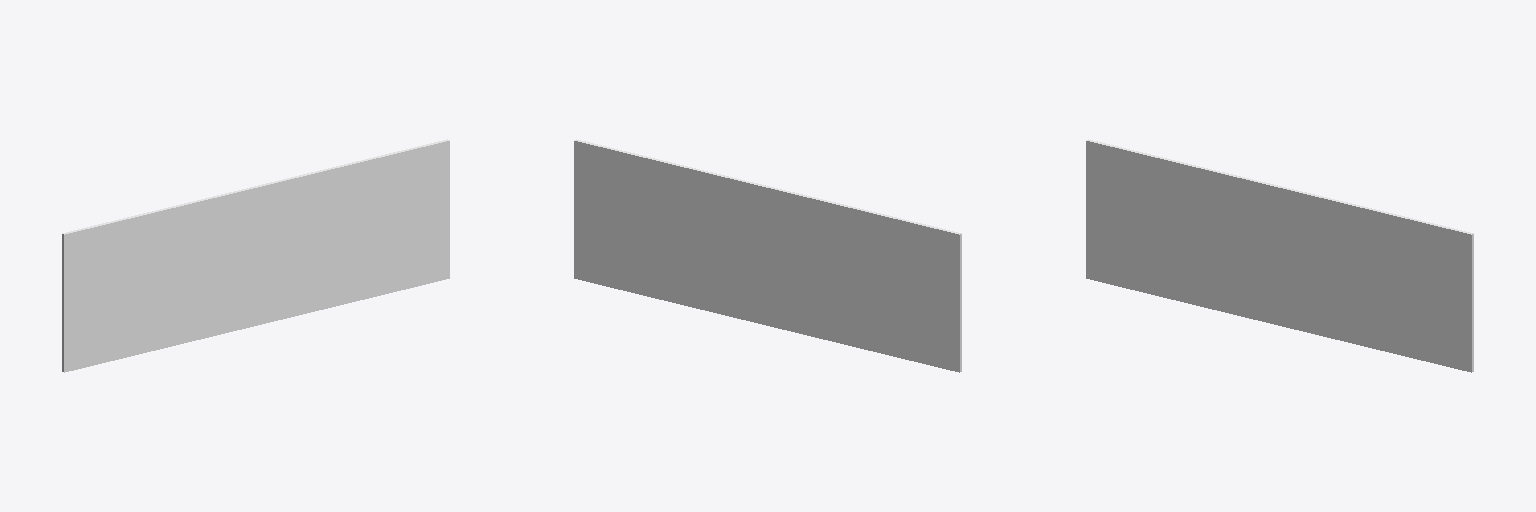
The model's file is fabrica-3.obj.
3 renders of one model, left to right at view 1: azimuth 30°, elevation 25°; view 2: azimuth 150°, elevation 25°; view 3: azimuth 330°, elevation 25°, orthographic.
Parts seen in each view (by area): view 1: object 1; view 2: object 1; view 3: object 1.
Part boxes in pixels (bbox=[...]): object 1: bbox=[62, 139, 449, 372]; object 1: bbox=[574, 139, 961, 372]; object 1: bbox=[1086, 139, 1473, 372].
Size of the model in its own units: 11.7 by 4 by 0.1.